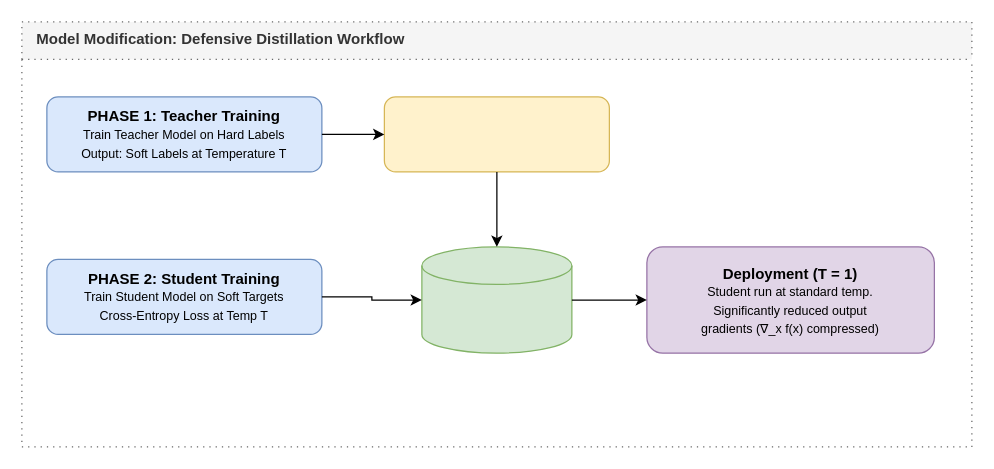
The diagram is 994 pixels wide and 469 high, and some of its shapes have lost their labels. The shapes that lost their labels are listed below. From the top down, each one's centre as x and y in pixels, then its label:
At pixel 496 134: "Soft Targets (T) Smooth probability distribution q_i ~ exp(z_i / T)".
At pixel 496 299: "Distilled Student Model Robust Weights".
